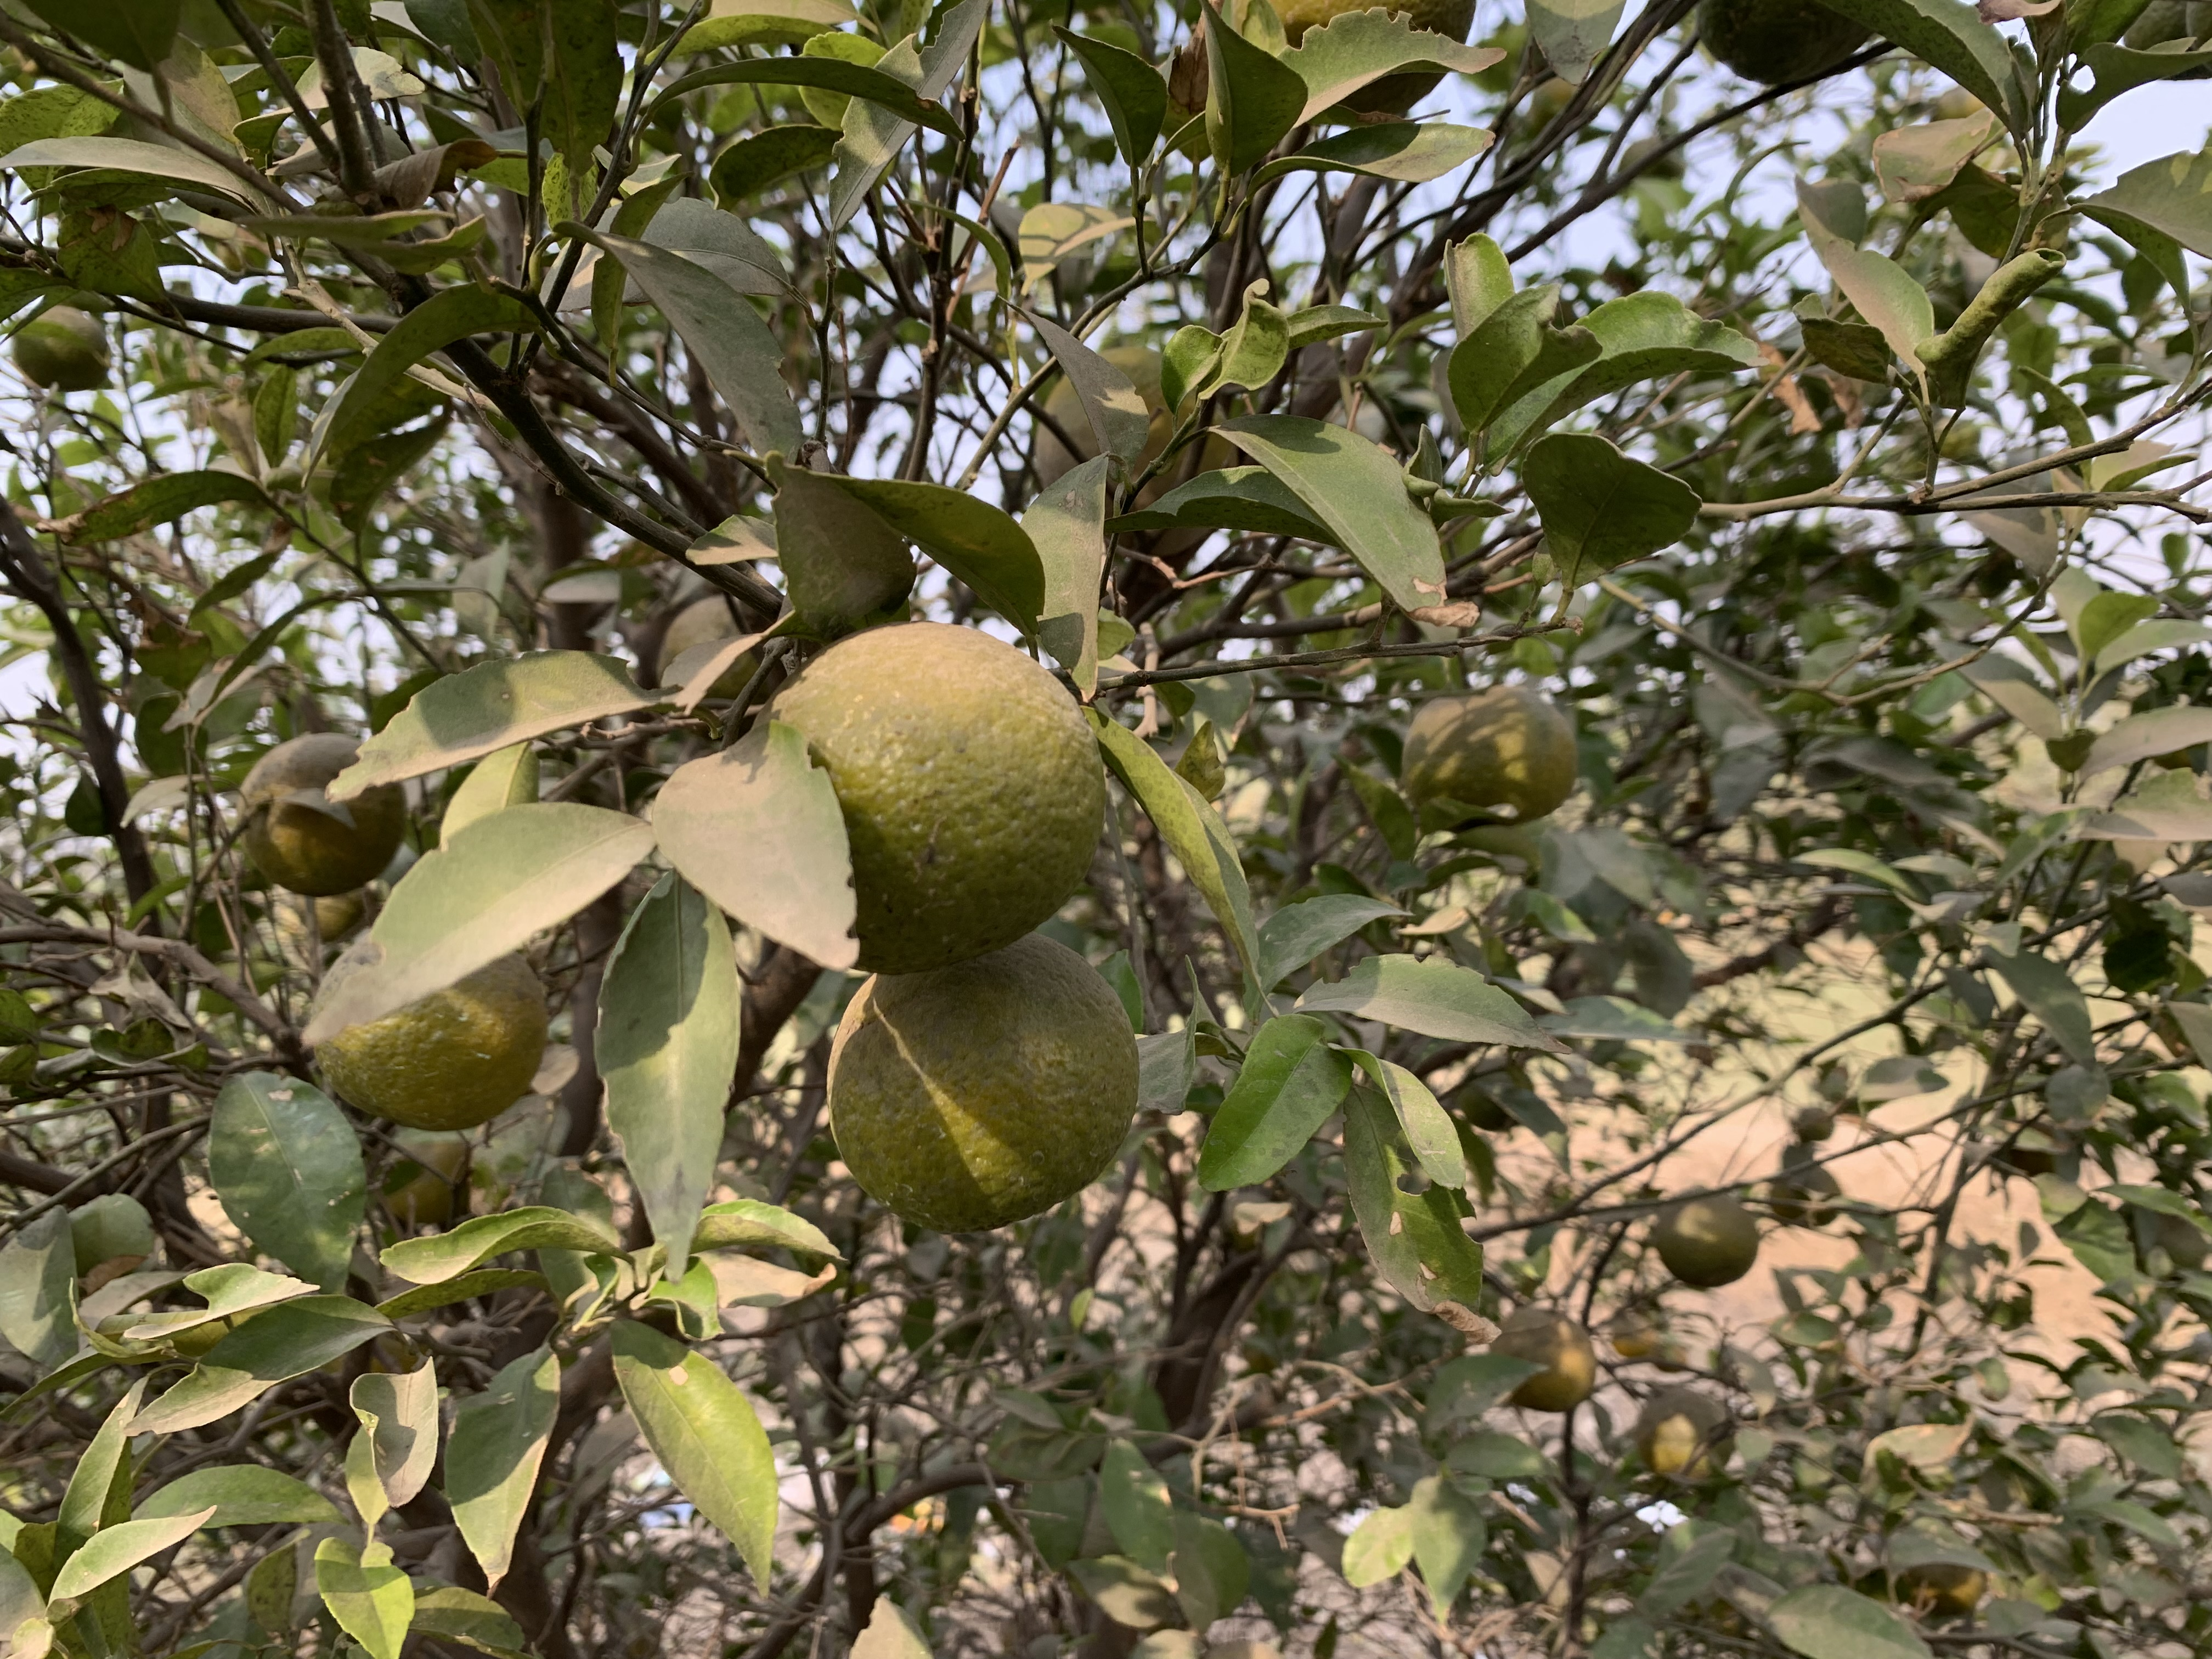orange: (752, 617, 1108, 974), (826, 932, 1139, 1230), (1033, 345, 1240, 565), (314, 950, 549, 1129), (1226, 3, 1482, 113), (237, 734, 408, 894), (1400, 685, 1578, 826), (655, 596, 787, 706), (1703, 3, 1879, 84), (1493, 1307, 1597, 1412), (1656, 1190, 1759, 1286), (1637, 1389, 1735, 1485), (16, 307, 118, 396), (378, 1127, 472, 1218), (1770, 1162, 1843, 1227), (1794, 1108, 1834, 1140)
